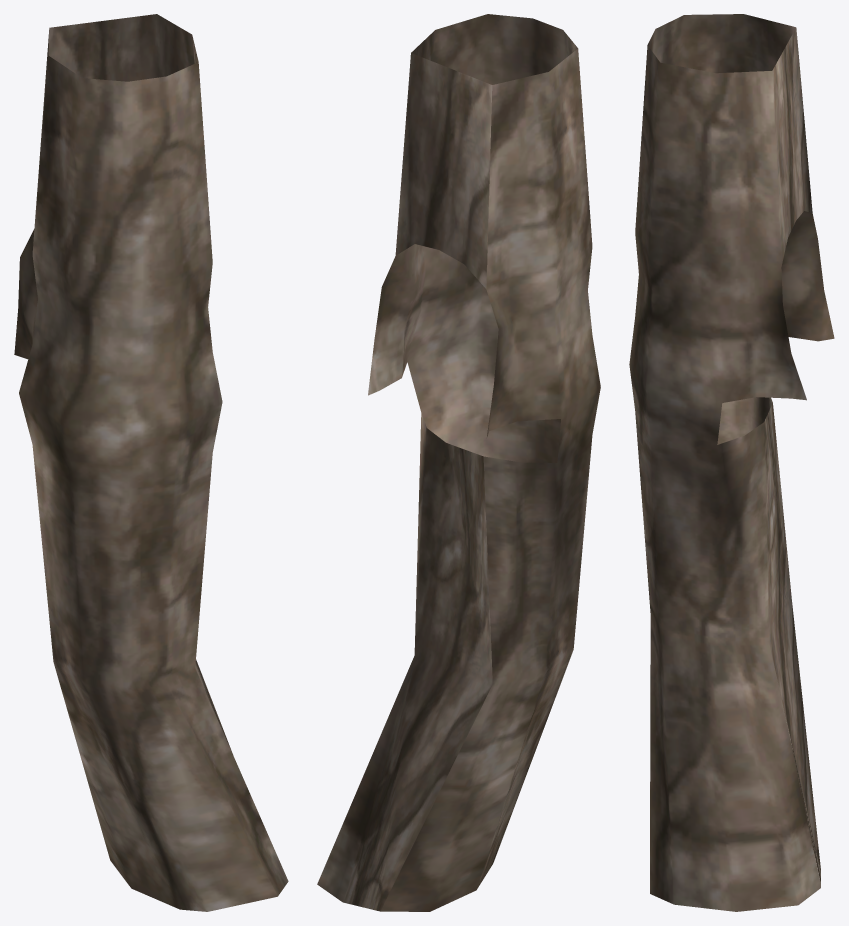
Rendered from EKH_JAIL_PS_JA_LADDERCAVE93838.fbx.
The picture shows the model from 3 angles, left to right: view 1: azimuth 30°, elevation 25°; view 2: azimuth 150°, elevation 25°; view 3: azimuth 270°, elevation 25°; orthographic projection. The views are drawn at different scales.
Visible parts, largest first — view 1: EKH_JAIL_PS_JA_LADDERCAVE93838; view 2: EKH_JAIL_PS_JA_LADDERCAVE93838; view 3: EKH_JAIL_PS_JA_LADDERCAVE93838.
Part boxes in pixels (x1,y1,x2,y2): EKH_JAIL_PS_JA_LADDERCAVE93838: (14,14,288,911); EKH_JAIL_PS_JA_LADDERCAVE93838: (317,14,600,911); EKH_JAIL_PS_JA_LADDERCAVE93838: (629,14,834,911).
Size of the model in its own units: 17359 by 58697 by 13673.
Materials: 1 (1 with a texture image).
